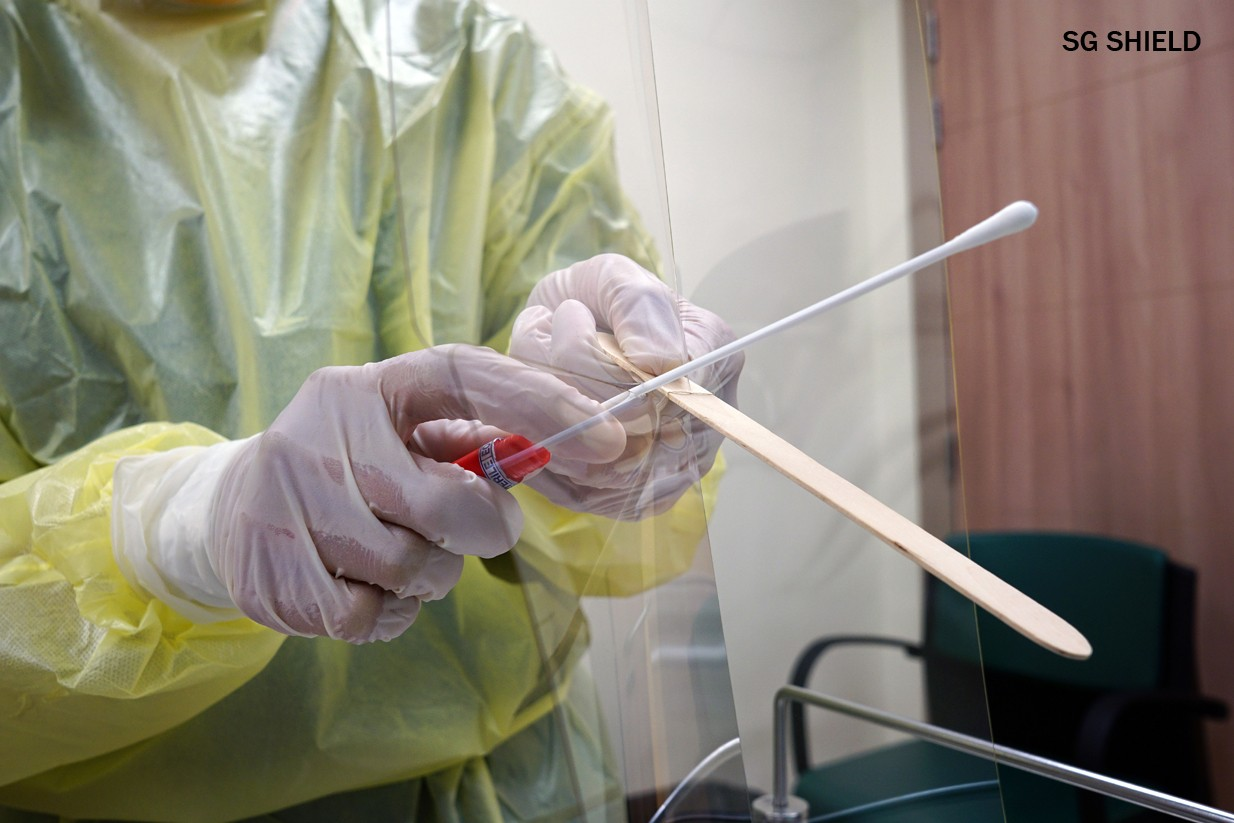Coverall: (1, 2, 650, 817)
Gloves: (147, 340, 615, 655), (514, 244, 774, 536)
